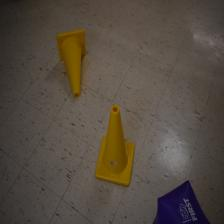cone: (95, 104, 135, 188), (56, 28, 86, 98)
cube: (152, 179, 210, 224)
